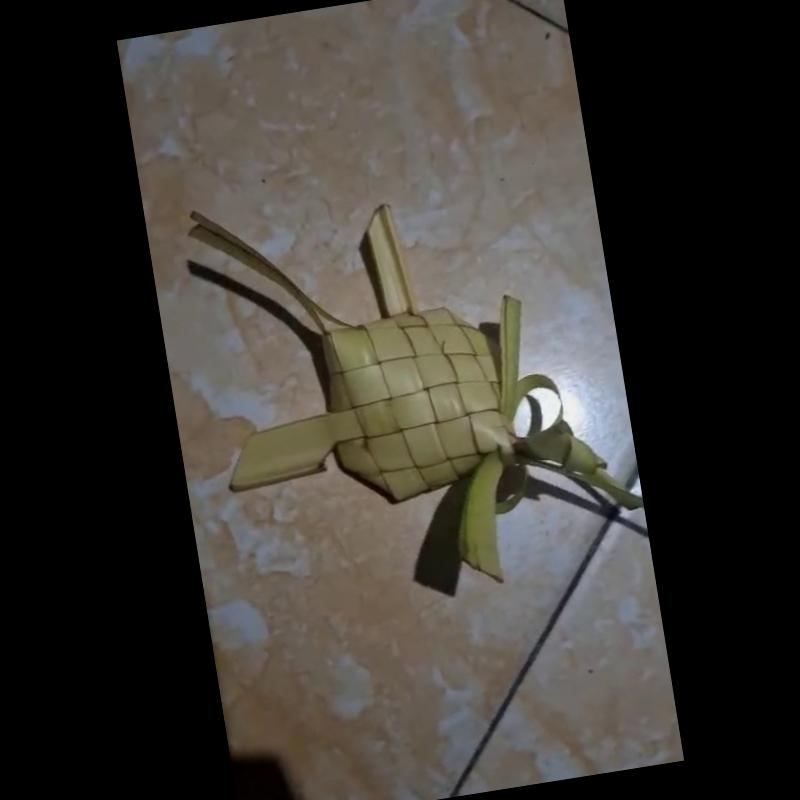Tipat Dampulan: (184, 189, 642, 597)
